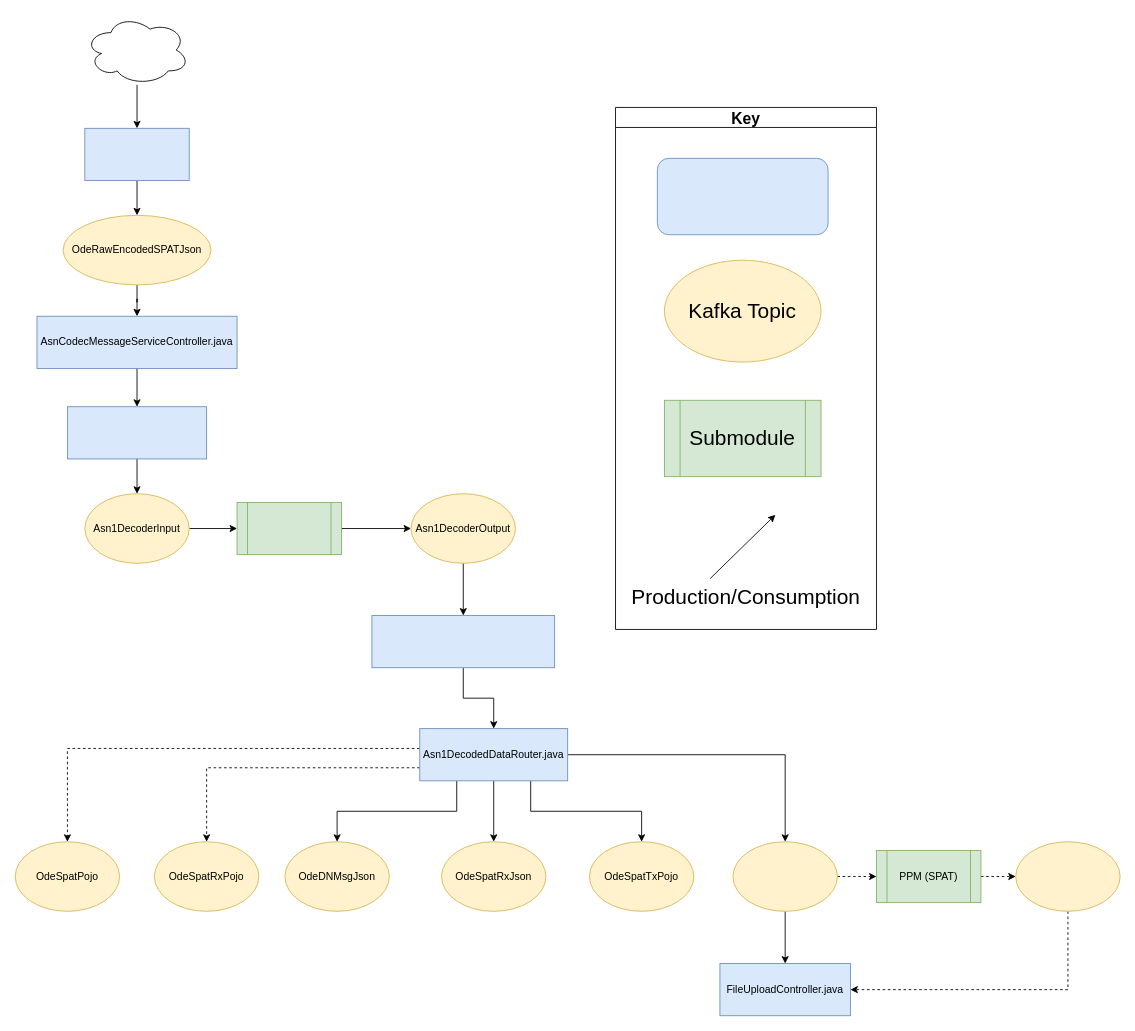
This 1135x1031 diagram has some shape labels left out. Each missing label, with the centre of its shape:
ACM (ADM): the point at 288,528
Asn1DecodeTIMJSON.java: the point at 137,432
AsnCodecRouterServiceController.java: the point at 463,641
FilteredOdeSpatJson: the point at 1067,876
ODE Java Class: the point at 742,196
OdeSpatJson: the point at 784,876
SpatReceiver.java: the point at 136,154
